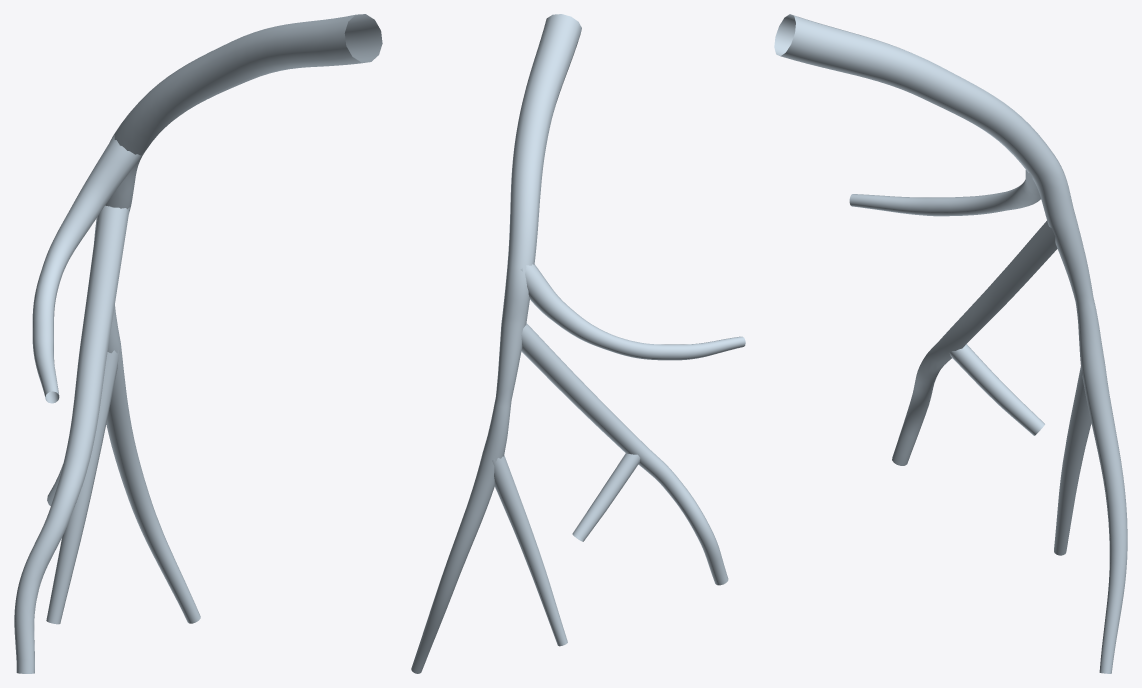
The model's file is visceras-medial-basal-segmental-bronchus-of-left-lung-bvii.glb.
The picture shows the model from 3 angles, left to right: view 1: azimuth 30°, elevation 25°; view 2: azimuth 150°, elevation 25°; view 3: azimuth 270°, elevation 25°; orthographic projection. The views are drawn at different scales.
Visible parts, largest first — view 1: Medial basal segmental bronchus of left lung (BVII); view 2: Medial basal segmental bronchus of left lung (BVII); view 3: Medial basal segmental bronchus of left lung (BVII).
Boxes of the visible parts, x1,y1,x2,y2 form: Medial basal segmental bronchus of left lung (BVII): [14, 14, 382, 673]; Medial basal segmental bronchus of left lung (BVII): [411, 14, 745, 673]; Medial basal segmental bronchus of left lung (BVII): [774, 14, 1127, 673].
Bounding box in the file's own units: 0.0486 × 0.1141 × 0.0559.
